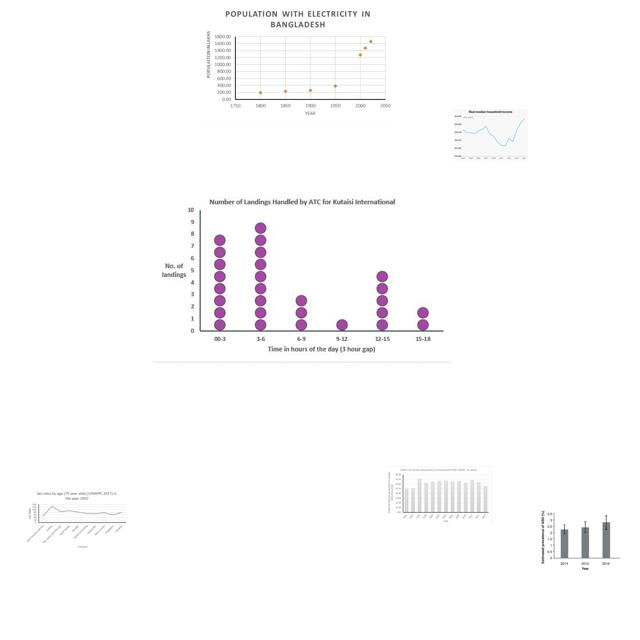Graph: (153, 188, 451, 363), (201, 5, 395, 123), (25, 489, 128, 550), (387, 466, 492, 524), (539, 501, 623, 573), (454, 109, 528, 161)
